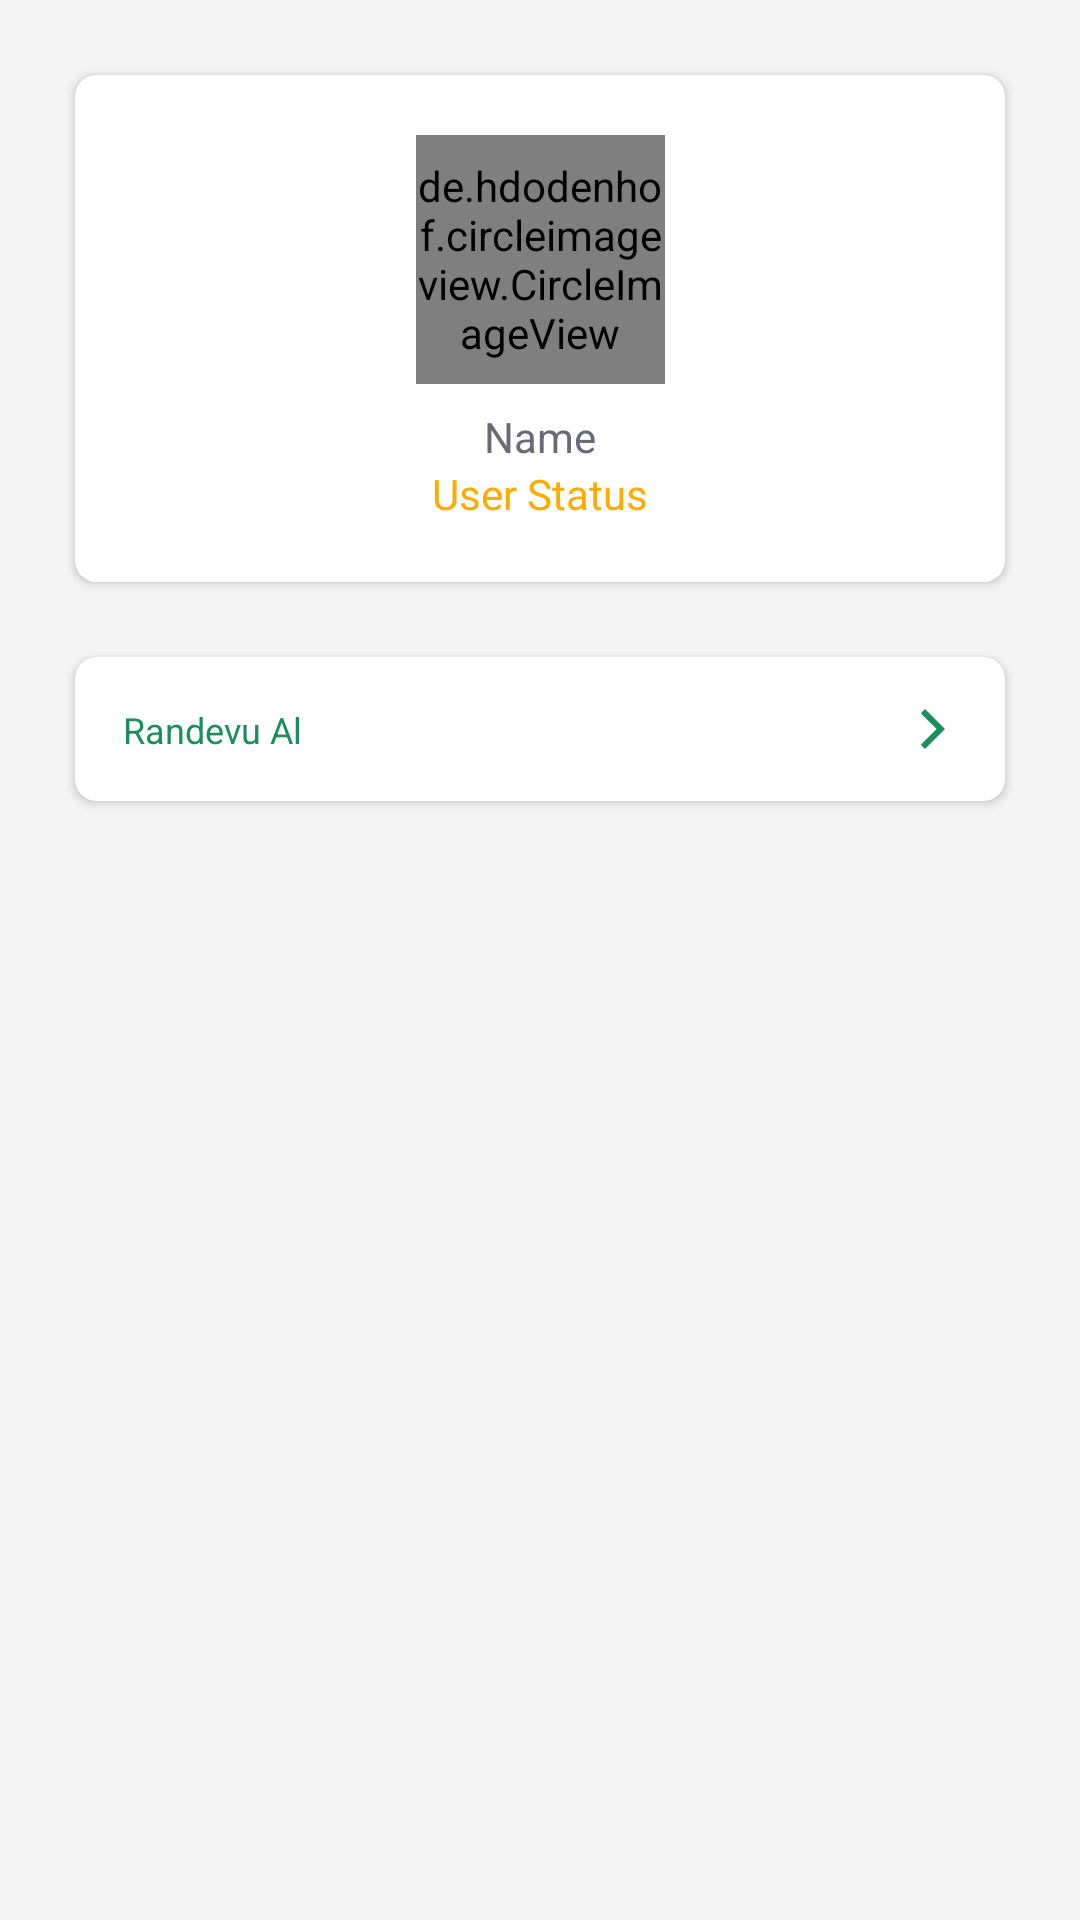

Where to tap for icons on this 1080w x 1920h app screen, as [x,y]:
arrow: [933,729]
